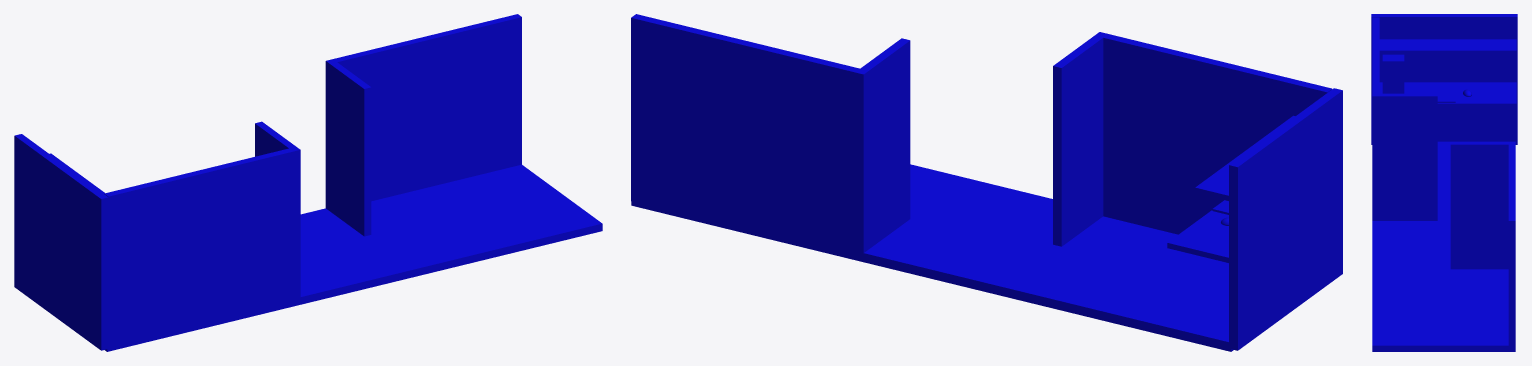
File: wall&floor_withshelf.fbx
3 renders of one model, left to right at view 1: azimuth 30°, elevation 25°; view 2: azimuth 150°, elevation 25°; view 3: azimuth 270°, elevation 25°, orthographic. The views are drawn at different scales.
Parts seen in each view (by area): view 1: wall, wall.001, floor, wall.003; view 2: wall.001, wall, floor, wall.003, floor.001, floor.002; view 3: floor, wall.003, wall.001, wall, floor.001, floor.002, Cube, Cube.001.
Boxes of the visible parts, left/top/right/bottom form: wall: left=104, top=121, right=300, bottom=347; wall.001: left=325, top=14, right=521, bottom=236; floor: left=105, top=164, right=602, bottom=351; wall.003: left=14, top=134, right=108, bottom=350; wall.001: left=631, top=14, right=910, bottom=257; wall: left=1053, top=32, right=1332, bottom=246; floor: left=631, top=164, right=1233, bottom=351; wall.003: left=1229, top=88, right=1342, bottom=350; floor.001: left=1167, top=210, right=1228, bottom=262; floor.002: left=1195, top=115, right=1295, bottom=200; floor: left=1372, top=141, right=1515, bottom=351; wall.003: left=1371, top=14, right=1517, bottom=144; wall.001: left=1450, top=142, right=1515, bottom=348; wall: left=1372, top=17, right=1437, bottom=220; floor.001: left=1379, top=82, right=1516, bottom=107; floor.002: left=1379, top=39, right=1516, bottom=54; Cube: left=1382, top=54, right=1404, bottom=93; Cube.001: left=1437, top=95, right=1455, bottom=102.
Size of the model in its own units: 842 by 249 by 252.
